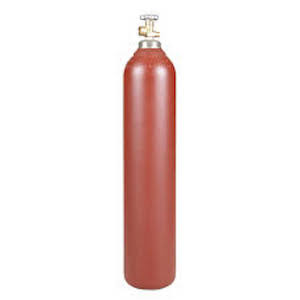combustible: (125, 30, 177, 287)
